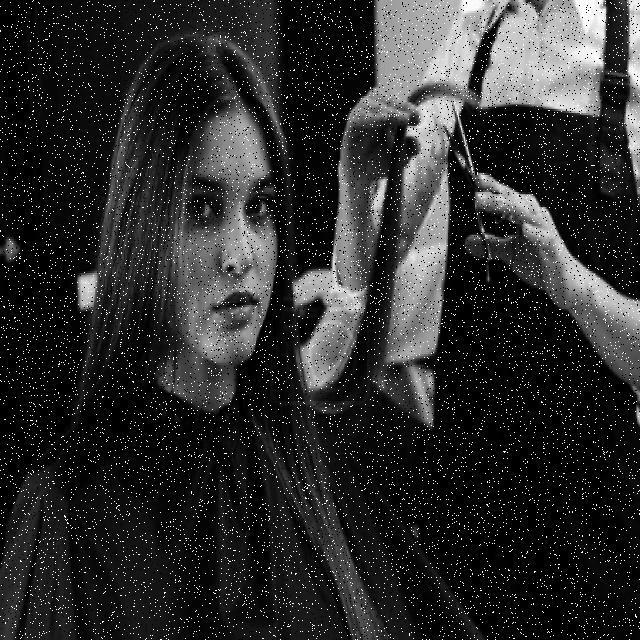scissors: (434, 97, 514, 290)
